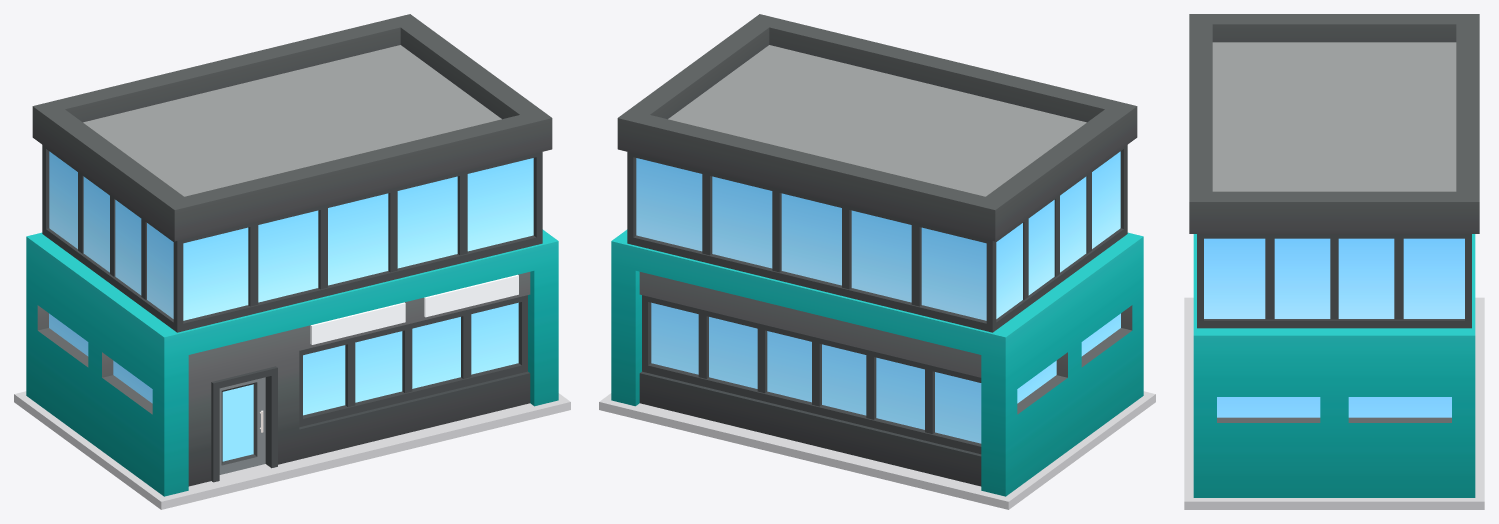
Rendered from city2-building-supermarket-04.glb.
3 renders of one model, left to right at view 1: azimuth 30°, elevation 25°; view 2: azimuth 150°, elevation 25°; view 3: azimuth 270°, elevation 25°, orthographic. The views are drawn at different scales.
Visible parts, largest first — view 1: Building_Supermarket_04; view 2: Building_Supermarket_04; view 3: Building_Supermarket_04.
Part boxes in pixels (x1,y1,x2,y2): Building_Supermarket_04: (14, 14, 570, 509); Building_Supermarket_04: (599, 14, 1155, 509); Building_Supermarket_04: (1184, 14, 1484, 509).
Size of the model in its own units: 10.53 by 7.22 by 6.55.
Materials: 1 (1 with a texture image).
